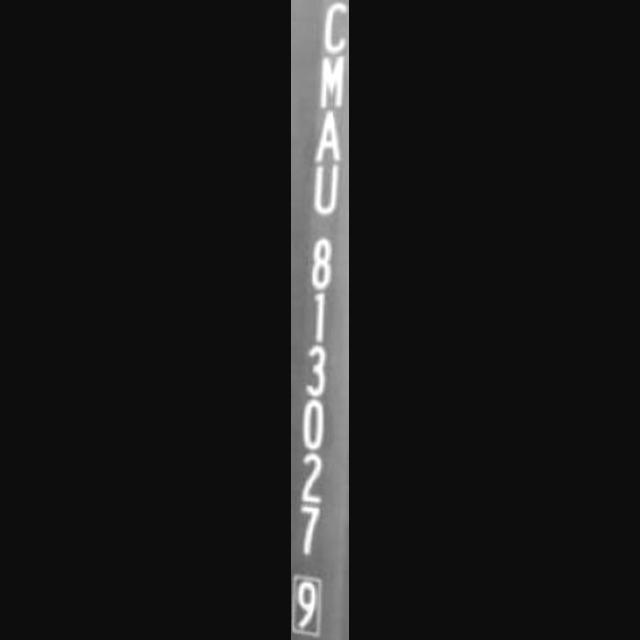0: (292, 397, 340, 451)
1: (302, 287, 338, 345)
2: (292, 447, 332, 507)
3: (300, 339, 334, 403)
7: (291, 504, 333, 560)
8: (303, 231, 341, 297)
9: (292, 568, 326, 640)
a: (308, 104, 349, 164)
c: (312, 0, 350, 58)
m: (312, 56, 350, 110)
u: (308, 154, 349, 220)
